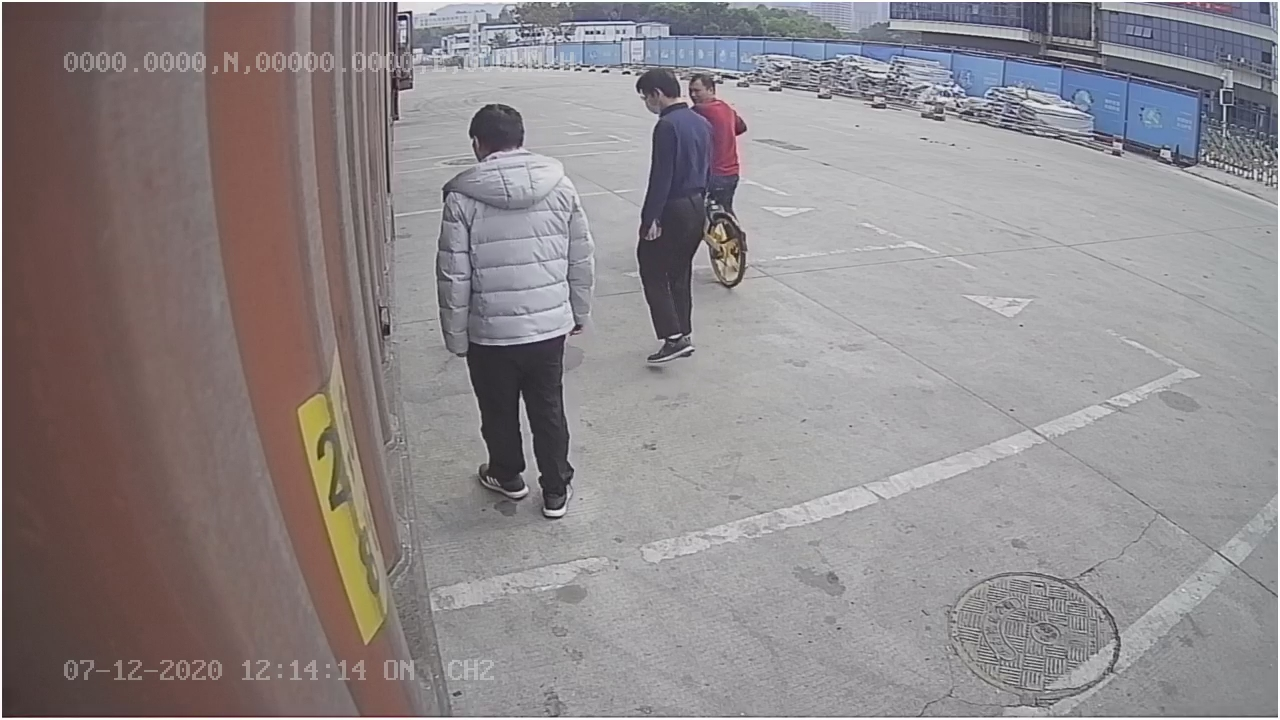person: (439, 88, 599, 523)
